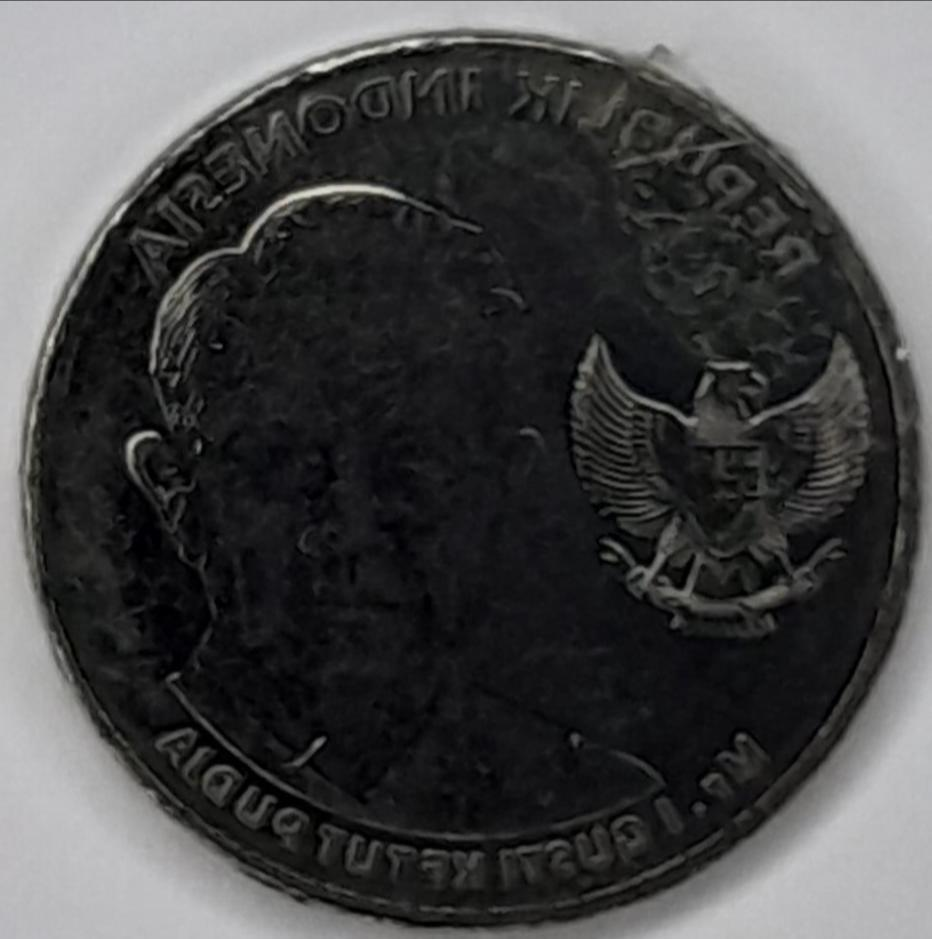coin_1000_e2016: (16, 19, 920, 939)
